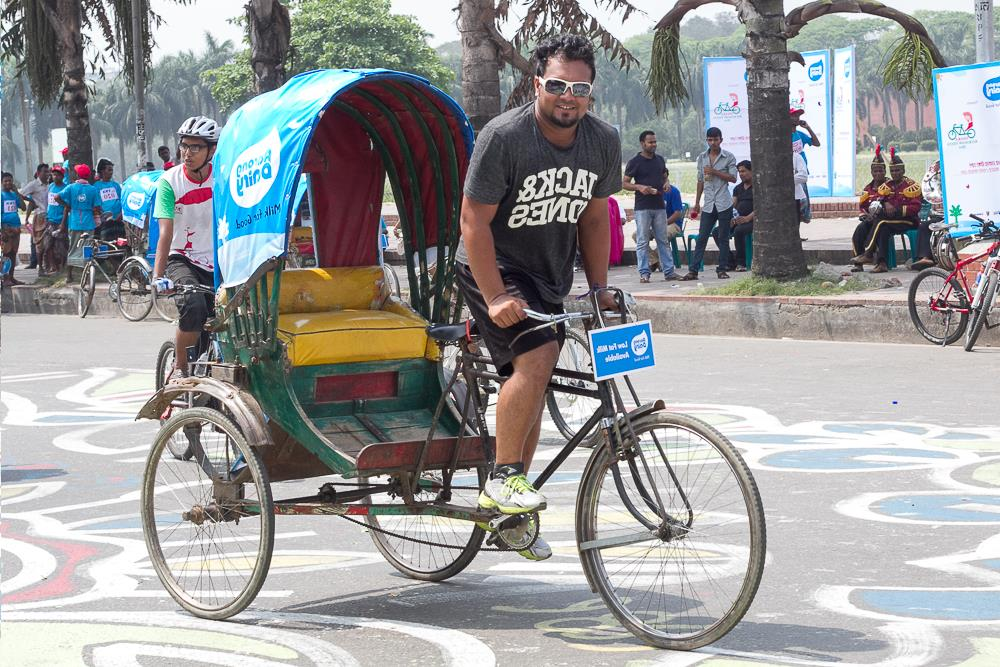Rickshaw: (158, 74, 754, 614)
